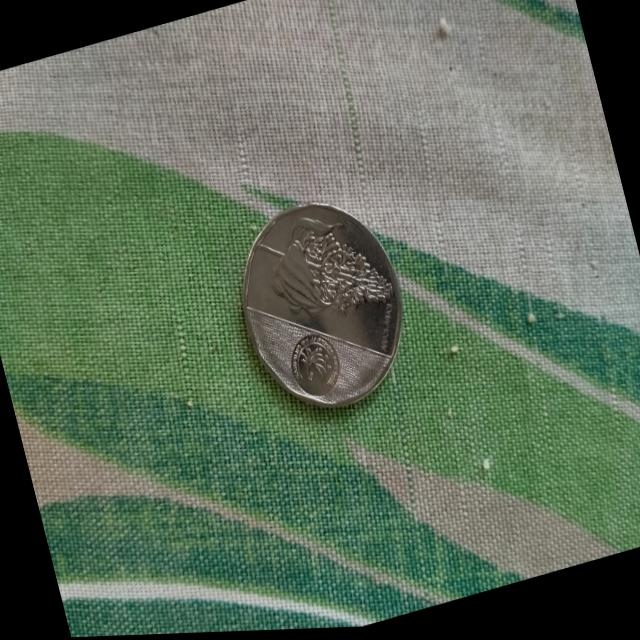10_New_Back: (244, 195, 408, 361)
